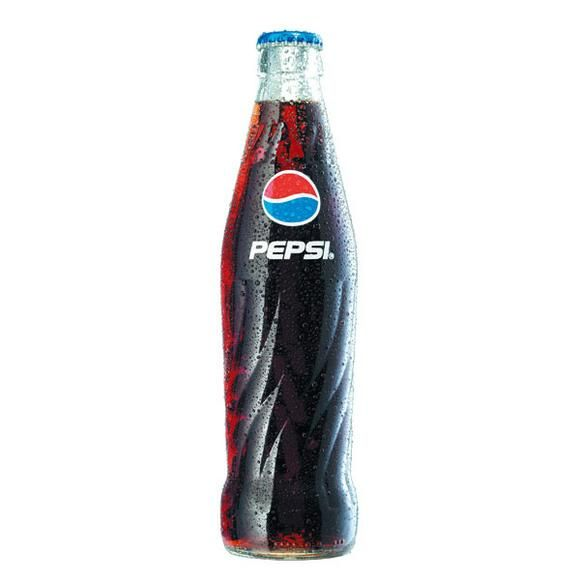pepsi_bottle: (223, 27, 360, 562)
